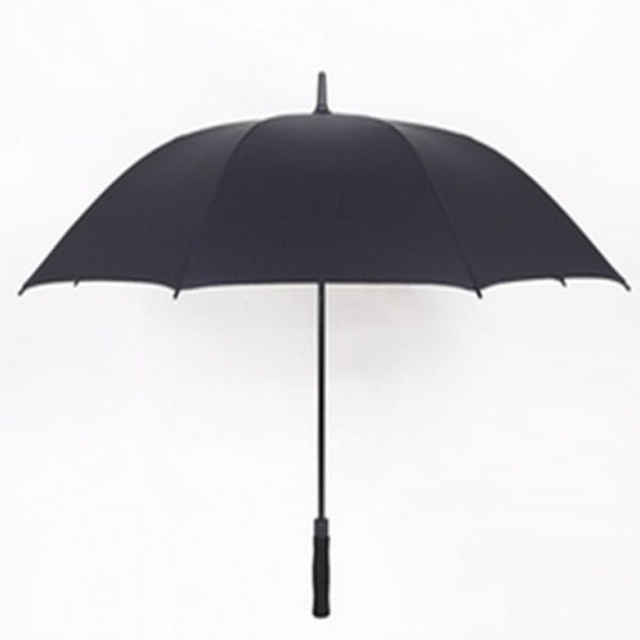umbrella: (8, 51, 640, 623)
